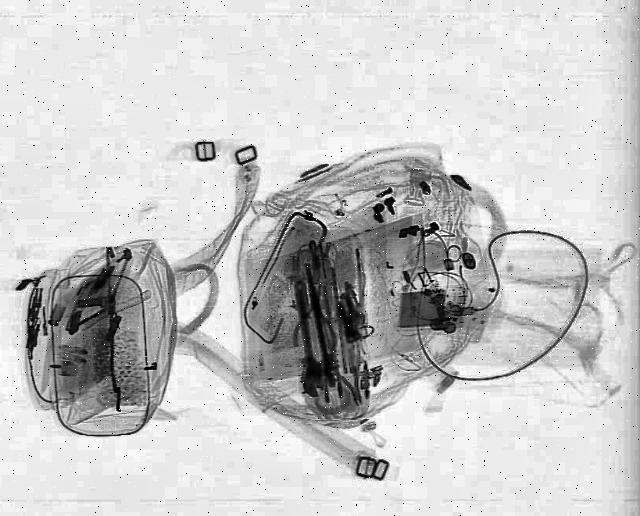Wrench: (291, 280, 327, 398)
